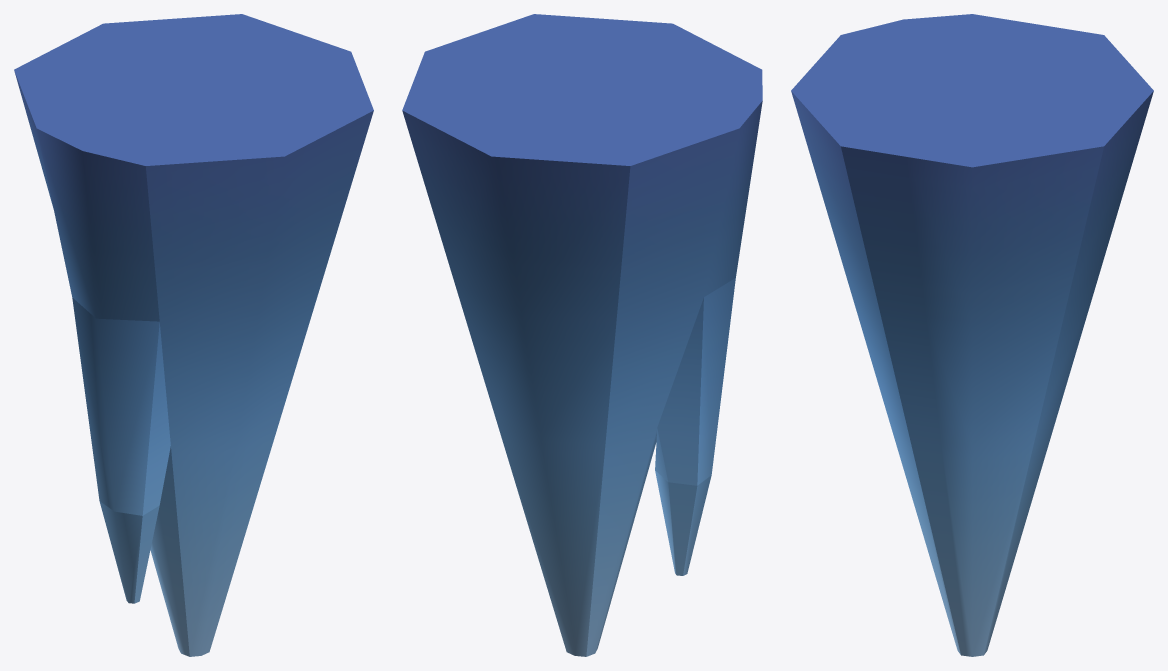
The model's file is icicle04.fbx.
3 views of the same model, side by side, from view 1: azimuth 30°, elevation 25°; view 2: azimuth 150°, elevation 25°; view 3: azimuth 270°, elevation 25° (orthographic).
Parts seen in each view (by area): view 1: icicle04; view 2: icicle04; view 3: icicle04.
Part boxes in pixels (left/top/right/bottom): icicle04: left=14, top=14, right=373, bottom=656; icicle04: left=402, top=14, right=762, bottom=656; icicle04: left=791, top=14, right=1153, bottom=656.
Bounding box in the file's own units: 0.5875 × 1 × 0.5875.
